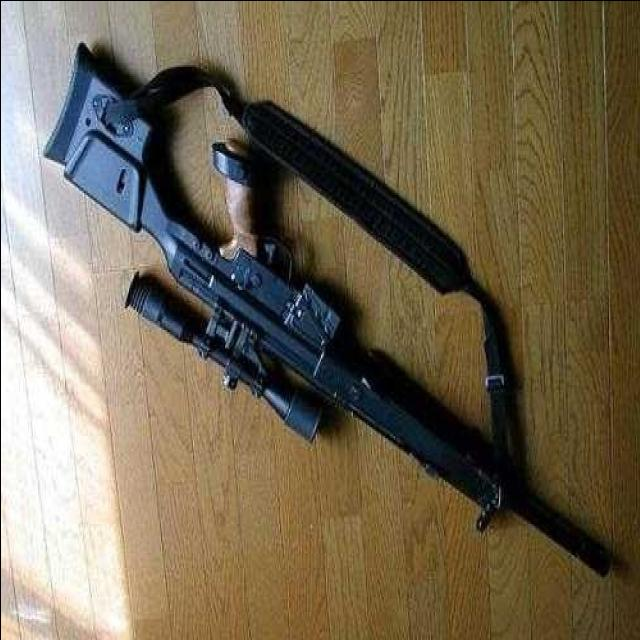heavyweapon: (32, 32, 626, 614)
